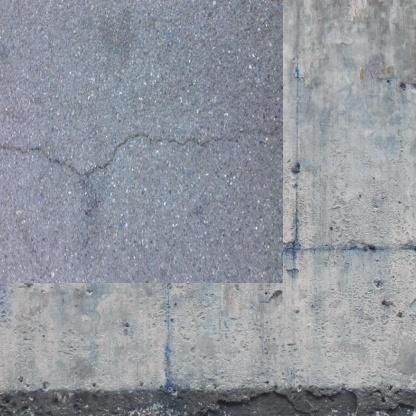Cracks: (0, 112, 261, 167)
